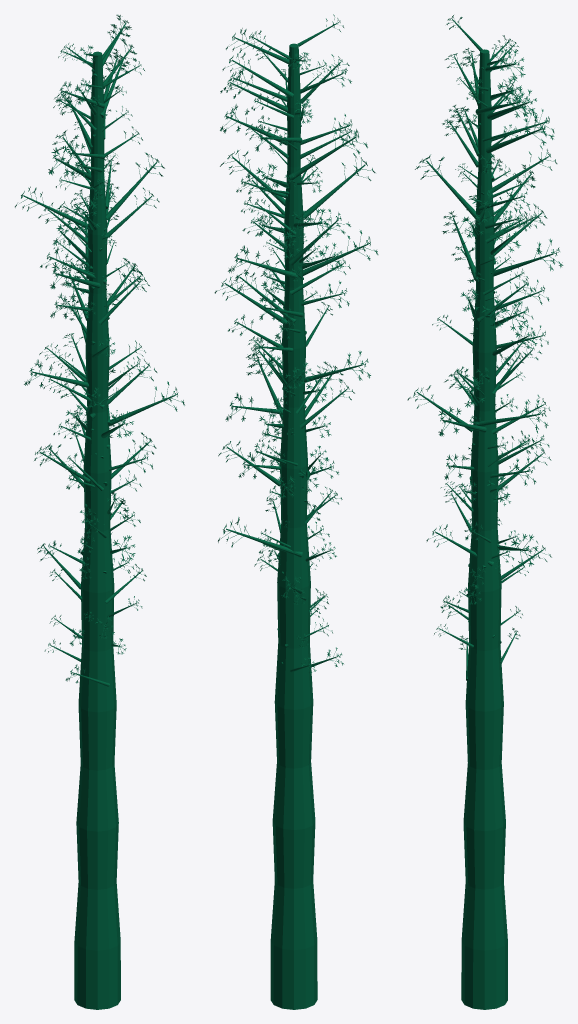
Rendered from Bamboo.fbx.
3 renders of one model, left to right at view 1: azimuth 30°, elevation 25°; view 2: azimuth 150°, elevation 25°; view 3: azimuth 270°, elevation 25°, orthographic.
Visible parts, largest first — view 1: Cylinder; view 2: Cylinder; view 3: Cylinder.
Part boxes in pixels (x1,y1,x2,y2): Cylinder: [15, 14, 184, 1009]; Cylinder: [214, 14, 378, 1009]; Cylinder: [407, 15, 563, 1009].
Bounding box in the file's own units: 144 × 920 × 134.
